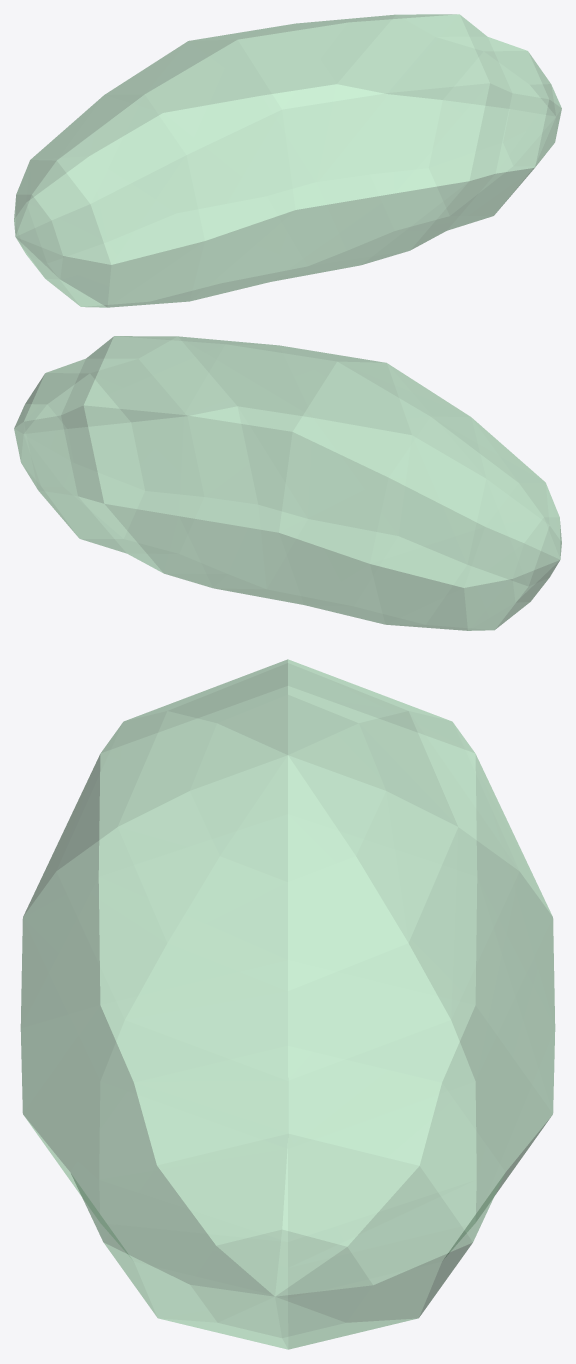
File: Mitochondria_02.fbx
3 views of the same model, one above another, from view 1: azimuth 30°, elevation 25°; view 2: azimuth 150°, elevation 25°; view 3: azimuth 270°, elevation 25° (orthographic). The views are drawn at different scales.
Visible parts, largest first — view 1: Mitochondria_02; view 2: Mitochondria_02; view 3: Mitochondria_02.
Part boxes in pixels (x1,y1,x2,y2): Mitochondria_02: (14, 14, 561, 307); Mitochondria_02: (14, 336, 561, 630); Mitochondria_02: (20, 659, 555, 1349).
Bounding box in the file's own units: 215 × 93.21 × 92.57.
